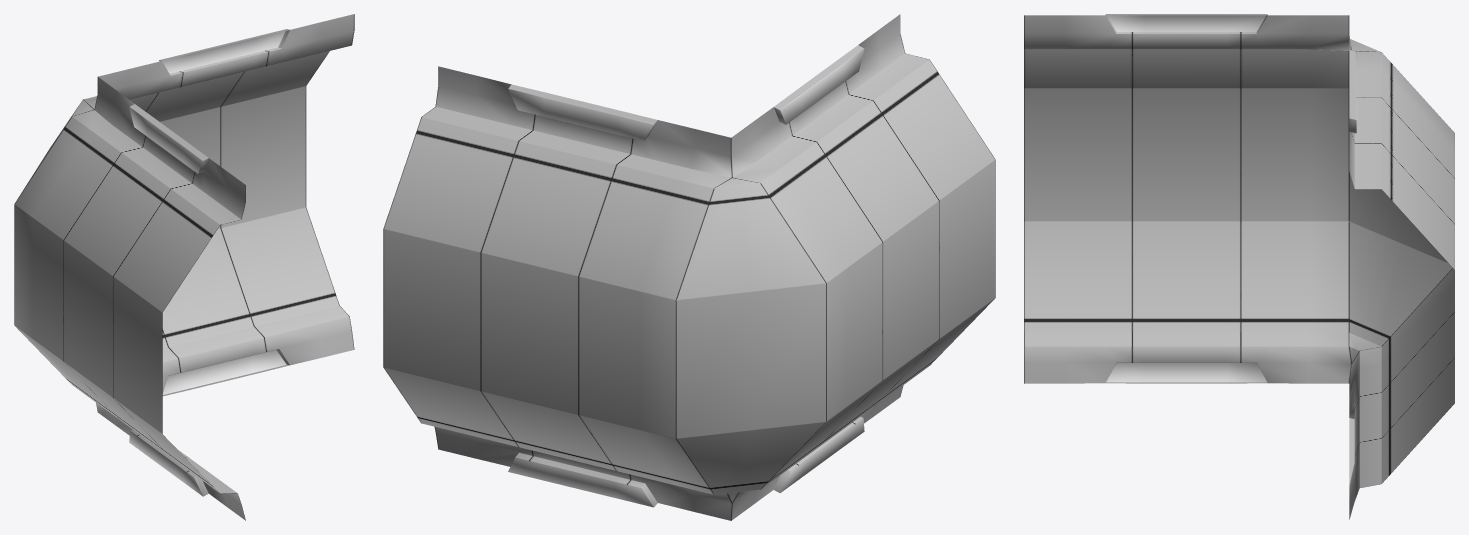
Rendered from Corridor_Wall_Corner_Inner.fbx.
3 views of the same model, side by side, from view 1: azimuth 30°, elevation 25°; view 2: azimuth 150°, elevation 25°; view 3: azimuth 270°, elevation 25° (orthographic). The views are drawn at different scales.
Parts seen in each view (by area): view 1: Corridor_Wall_Corner_Inner; view 2: Corridor_Wall_Corner_Inner; view 3: Corridor_Wall_Corner_Inner.
Boxes of the visible parts, bbox=[...] form: Corridor_Wall_Corner_Inner: bbox=[14, 14, 354, 520]; Corridor_Wall_Corner_Inner: bbox=[383, 14, 995, 520]; Corridor_Wall_Corner_Inner: bbox=[1024, 14, 1454, 519].
Bounding box in the file's own units: 530 × 502 × 530.
